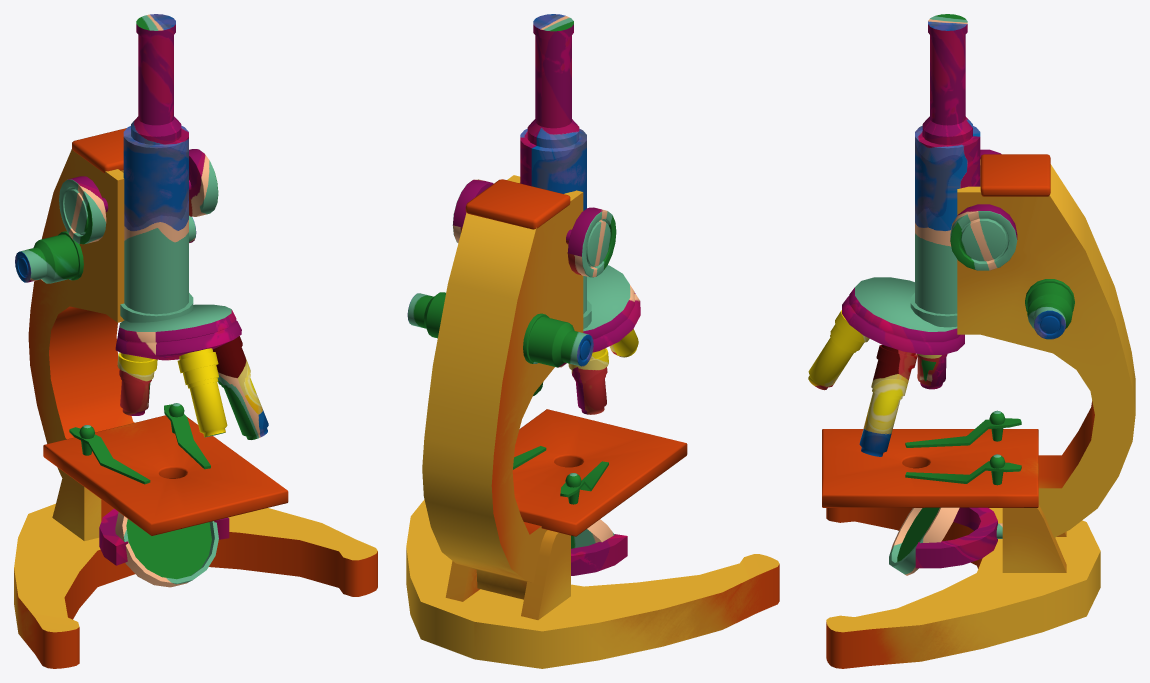
The model's file is xianweijing.FBX.
3 renders of one model, left to right at view 1: azimuth 30°, elevation 25°; view 2: azimuth 150°, elevation 25°; view 3: azimuth 270°, elevation 25°, orthographic. The views are drawn at different scales.
Parts seen in each view (by area): view 1: Object004, Object09, Object05, Object10, Object06, Object07, Object01, Object02, Object08, Object003; view 2: Object09, Object004, Object10, Object05, Object06, Object02, Object01, Object003, Object08, Object07; view 3: Object09, Object004, Object10, Object05, Object06, Object01, Object003, Object08, Object07, Object02.
Part boxes in pixels (bbox=[...]): Object004: bbox=[14, 472, 377, 668]; Object09: bbox=[28, 128, 134, 520]; Object05: bbox=[120, 14, 193, 322]; Object10: bbox=[43, 415, 288, 535]; Object06: bbox=[115, 304, 268, 439]; Object07: bbox=[115, 512, 218, 587]; Object01: bbox=[59, 149, 218, 244]; Object02: bbox=[15, 215, 196, 283]; Object08: bbox=[69, 403, 210, 484]; Object003: bbox=[99, 509, 229, 565]; Object09: bbox=[422, 175, 583, 599]; Object004: bbox=[406, 499, 779, 668]; Object10: bbox=[512, 409, 687, 536]; Object05: bbox=[520, 14, 591, 328]; Object06: bbox=[533, 265, 640, 414]; Object02: bbox=[407, 292, 593, 367]; Object01: bbox=[452, 179, 616, 277]; Object003: bbox=[571, 534, 627, 575]; Object08: bbox=[513, 446, 608, 504]; Object07: bbox=[571, 519, 614, 548]; Object09: bbox=[957, 154, 1135, 537]; Object004: bbox=[826, 504, 1100, 668]; Object10: bbox=[822, 429, 1038, 507]; Object05: bbox=[910, 14, 980, 327]; Object06: bbox=[808, 277, 964, 456]; Object01: bbox=[950, 149, 1017, 270]; Object003: bbox=[915, 507, 1002, 568]; Object08: bbox=[905, 410, 1021, 485]; Object07: bbox=[889, 507, 959, 575]; Object02: bbox=[1025, 279, 1074, 339].
Bounding box in the file's own units: 589 × 953 × 501.
